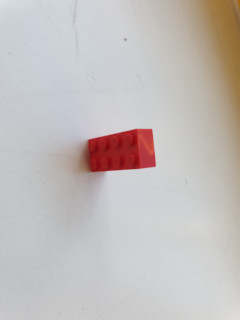2x4 red: (87, 128, 157, 173)
